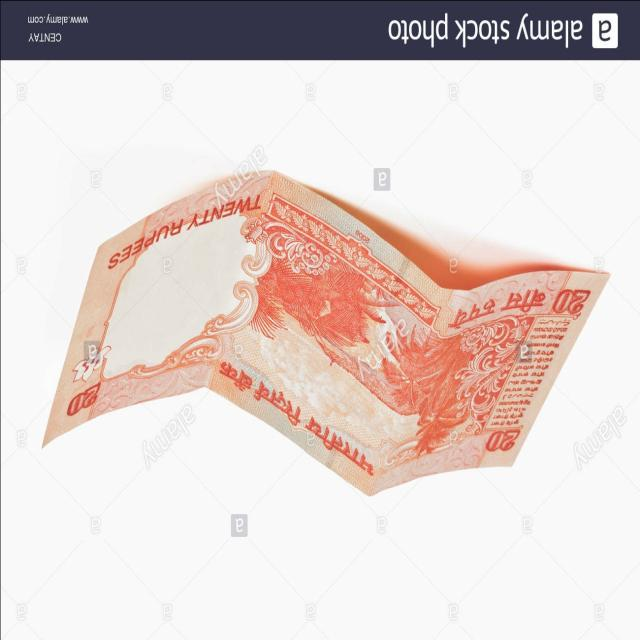20IndianRupees: (40, 163, 618, 498)
